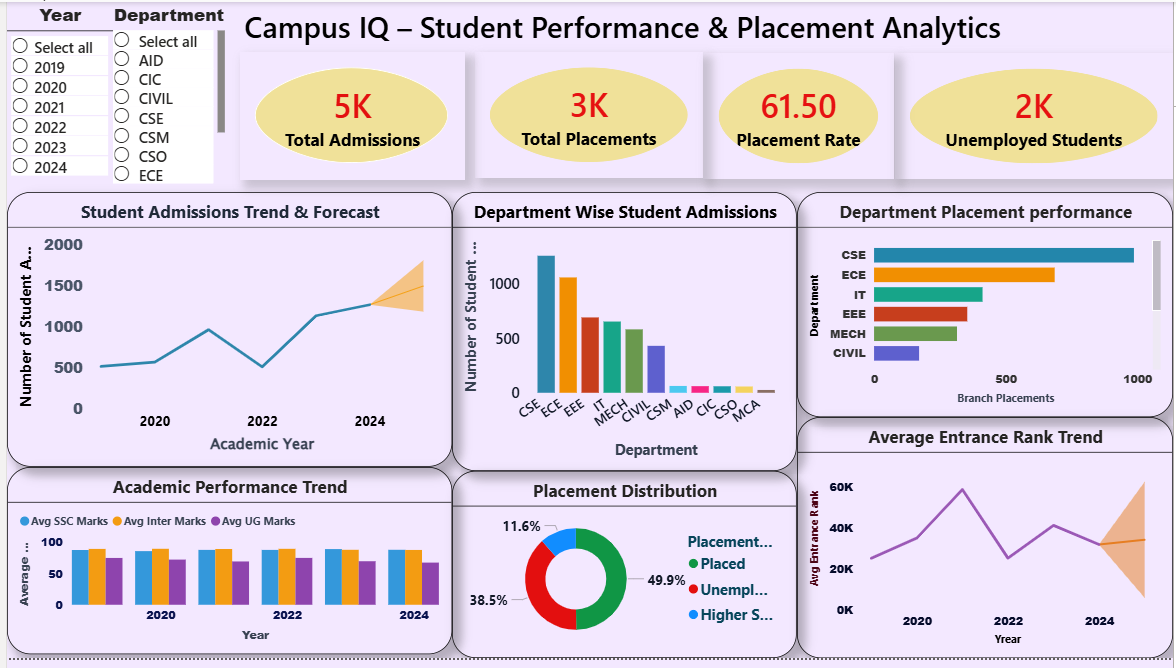

This screenshot's page, from the dashboard's own definition file:
{"tool":"powerbi","page":{"name":"Page 1","canvas":[1280,720],"ordinal":0},"visuals":[{"type":"textbox","box":[190.7,0,970.2,108.4],"z":0},{"type":"cardVisual","fields":{"Data":["Student all Years.Total Admissions"]},"box":[255.2,54.9,247,140],"z":1000},{"type":"cardVisual","fields":{"Data":["Student all Years.Unemployed Students"]},"box":[974.3,56.3,306,138.6],"z":2000},{"type":"cardVisual","fields":{"Data":["Student all Years.Total Placements"]},"box":[513.2,54.9,251.1,138.6],"z":3000},{"type":"cardVisual","fields":{"Data":["Student all Years.Placement Rate"]},"box":[764.3,56.3,209.9,138.6],"z":4000},{"type":"lineChart","title":"Student Admissions Trend & Forecast","fields":{"Category":["Student all Years.Year"],"Y":["Student all Years.Total Admissions"]},"box":[0,208.6,488.5,301.9],"z":5000},{"type":"clusteredColumnChart","title":" Department Wise Student Admissions","fields":{"Category":["Student all Years.Department"],"Y":["Student all Years.Branch Admissions"]},"box":[488.5,208.6,378.7,306],"z":6000},{"type":"clusteredBarChart","title":"Department Placement performance","fields":{"Category":["Student all Years.Department"],"Y":["Student all Years.Branch Placements"]},"box":[867.2,208.6,413,247],"z":7000},{"type":"donutChart","title":"Placement  Distribution","fields":{"Y":["CountNonNull(Student all Years.Student_Id)"],"Category":["Student all Years.Placement_Category"]},"box":[488.5,514.6,378.7,205.8],"z":8000},{"type":"clusteredColumnChart","title":"Academic Performance Trend","fields":{"Category":["Student all Years.Year"],"Y":["Student all Years.Avg SSC Marks","Student all Years.Avg Inter Marks","Student all Years.Avg UG Marks"]},"box":[0,510.5,488.5,205.8],"z":9000},{"type":"lineChart","title":"Average Entrance Rank  Trend","fields":{"Category":["Student all Years.Year"],"Y":["Student all Years.Avg Entrance Rank"]},"box":[867.2,455.6,413,264.8],"z":10000},{"type":"listSlicer","fields":{"Values":["Student all Years.Year"]},"box":[0,0,116.6,222.3],"z":11000},{"type":"listSlicer","fields":{"Values":["Student all Years.Department"]},"box":[111.1,0,133.1,208.6],"z":12000}]}

Visuals, with their boxes in screenshot pixels (x1, y1, x2, y2), scaled from the page's 1280x720 canvas onto the 1176x668 screenshot:
textbox: x1=175, y1=0, x2=1067, y2=101
cardVisual - Student all Years.Total Admissions: x1=234, y1=51, x2=461, y2=181
cardVisual - Student all Years.Unemployed Students: x1=895, y1=52, x2=1175, y2=181
cardVisual - Student all Years.Total Placements: x1=472, y1=51, x2=702, y2=180
cardVisual - Student all Years.Placement Rate: x1=702, y1=52, x2=895, y2=181
"Student Admissions Trend & Forecast" lineChart: x1=0, y1=194, x2=449, y2=474
" Department Wise Student Admissions" clusteredColumnChart: x1=449, y1=194, x2=797, y2=477
"Department Placement performance" clusteredBarChart: x1=797, y1=194, x2=1175, y2=423
"Placement  Distribution" donutChart: x1=449, y1=477, x2=797, y2=667
"Academic Performance Trend" clusteredColumnChart: x1=0, y1=474, x2=449, y2=665
"Average Entrance Rank  Trend" lineChart: x1=797, y1=423, x2=1175, y2=667
listSlicer - Student all Years.Year: x1=0, y1=0, x2=107, y2=206
listSlicer - Student all Years.Department: x1=102, y1=0, x2=224, y2=194
